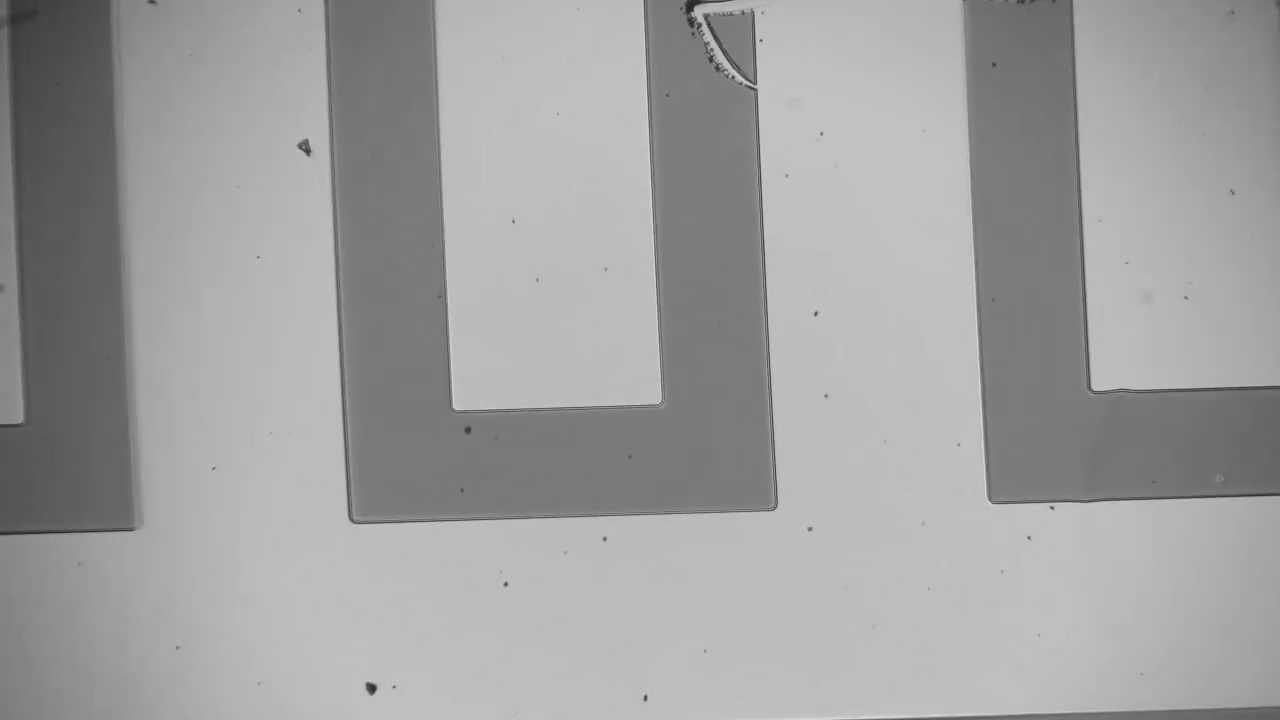Short_circuit: (655, 1, 775, 47)
